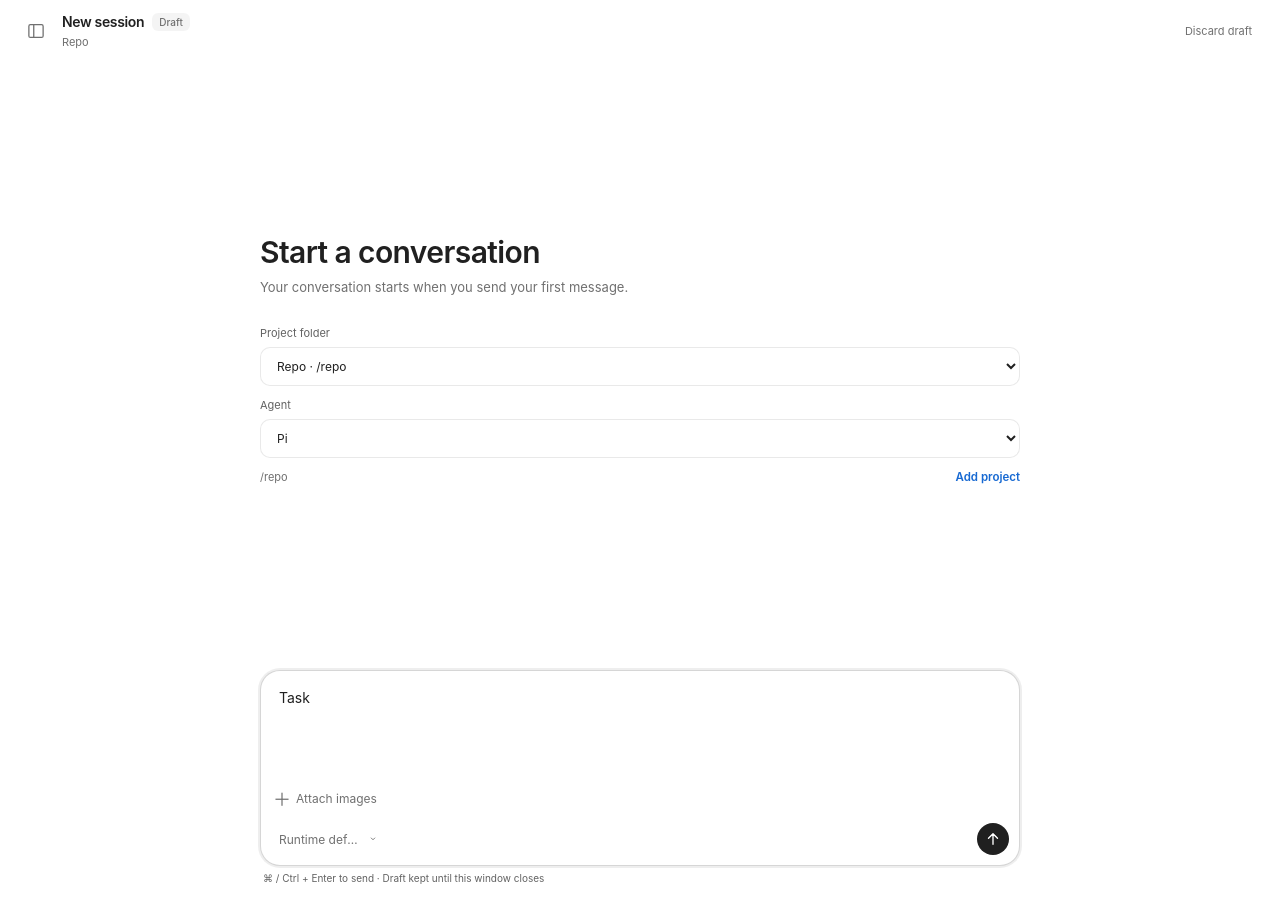
Test case: draft conversation › refreshes a reopened catalog and lets the same model be selected with its new proof
Click the button with aria-label "Model: Runtime default".
click(329, 839)  # box x1=272 y1=826 x2=386 y2=852
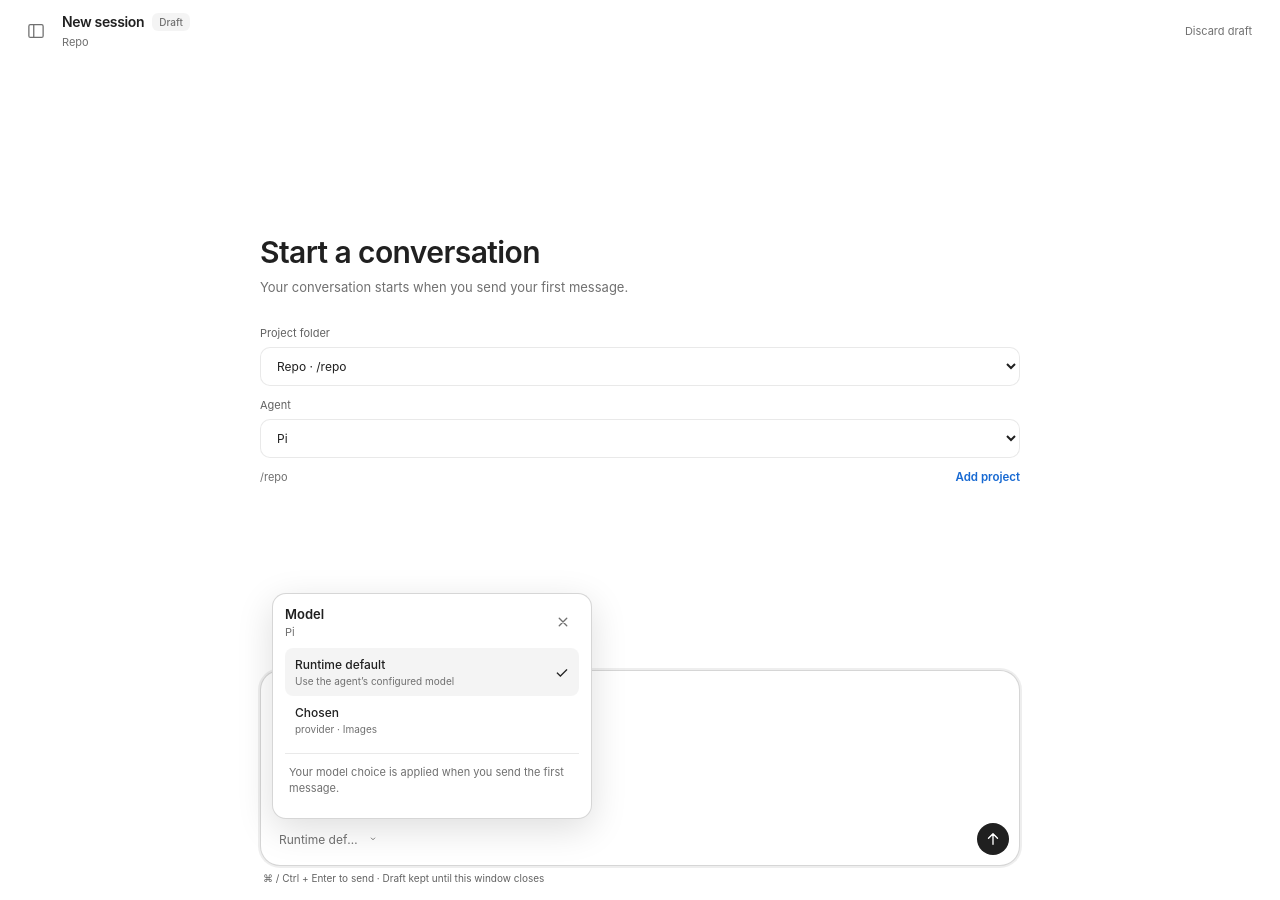
Click the button "Chosen provider · Images".
click(317, 712)  # box x1=285 y1=696 x2=579 y2=744
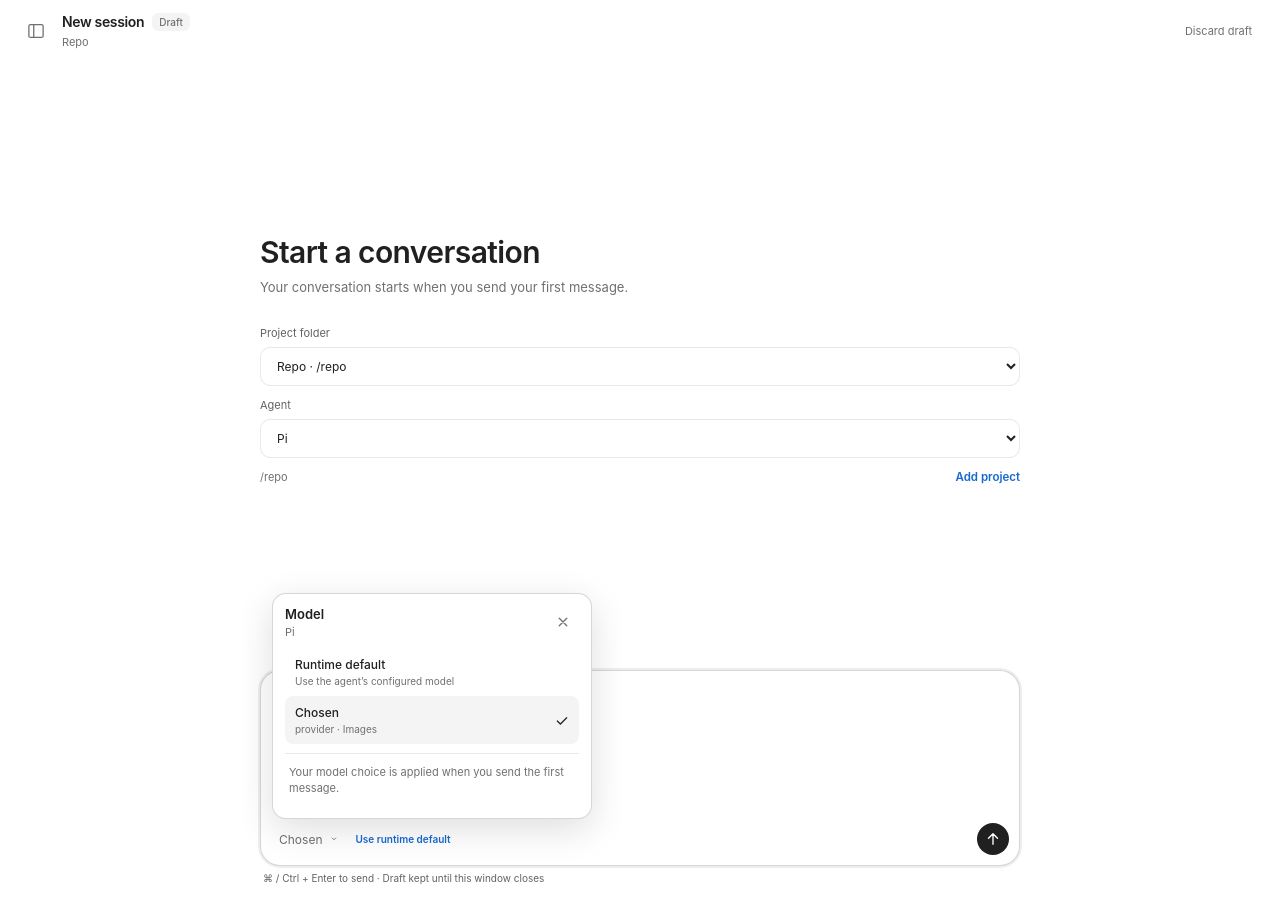
Click the button named "Close model selection".
click(563, 622)  # box x1=547 y1=606 x2=579 y2=638
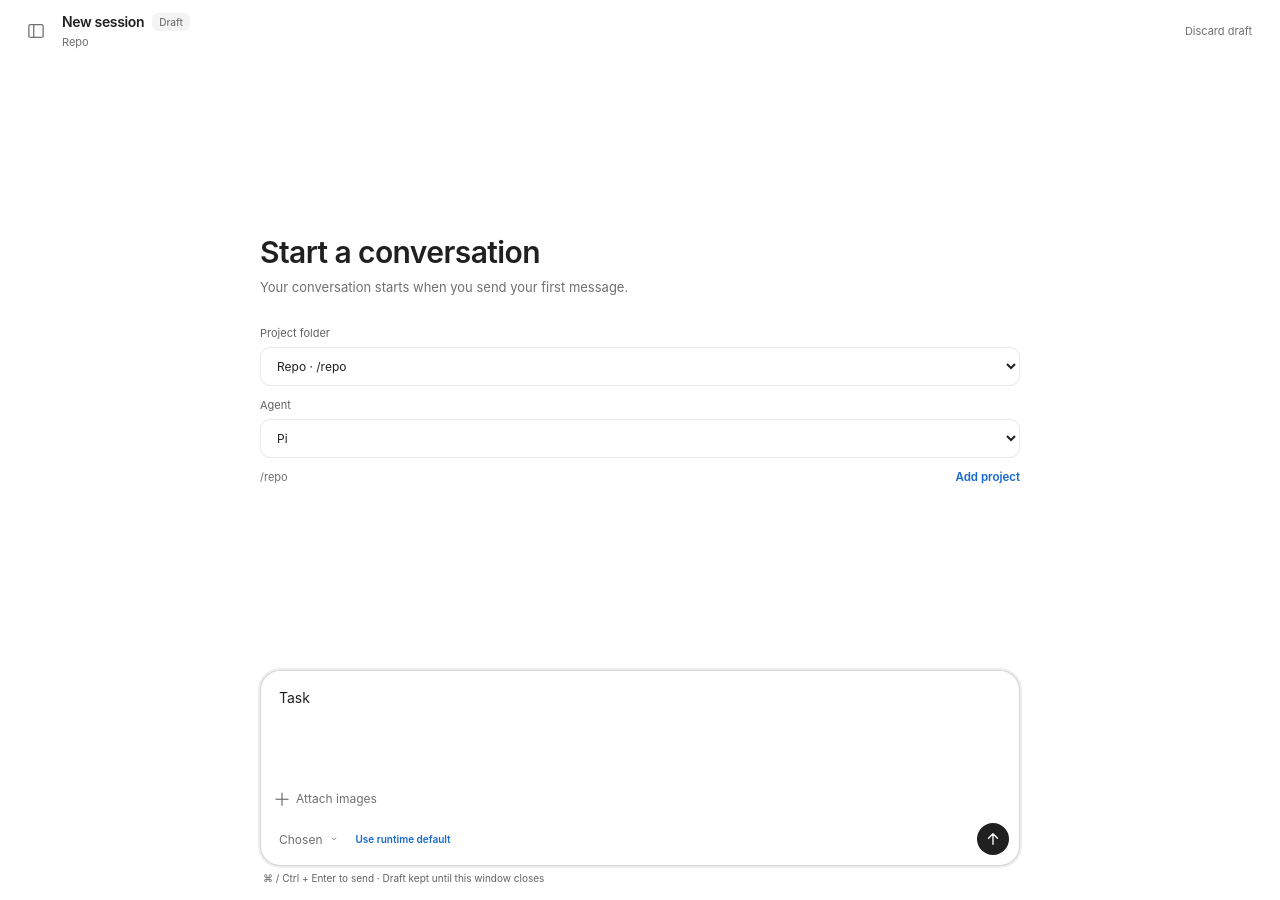
Click the button with aria-label "Model: Chosen".
click(310, 839)  # box x1=272 y1=826 x2=348 y2=852
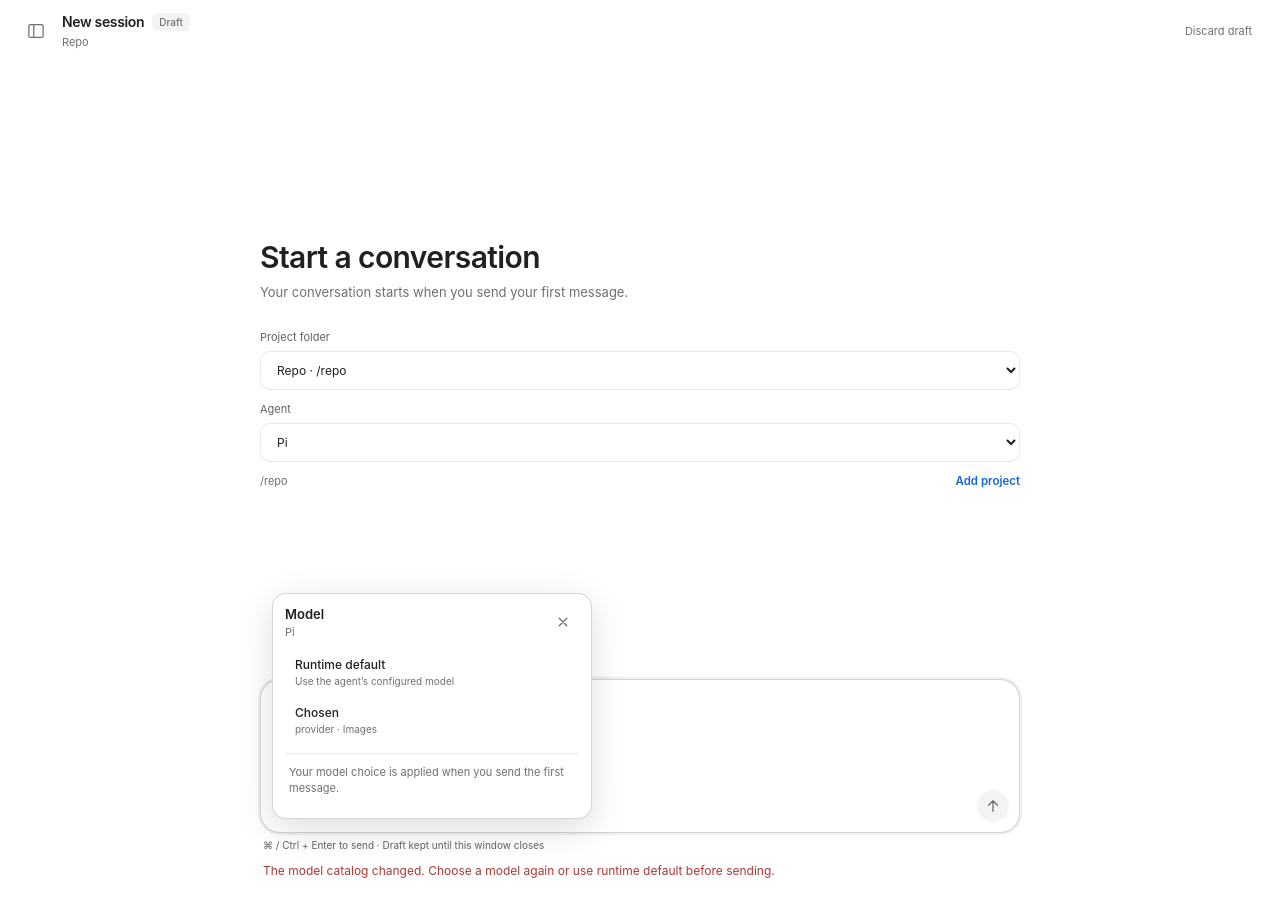
Expected: the text "The model catalog changed" is shown, x1=263 y1=863 x2=775 y2=878
Expected: the button named "Send" is disabled, x1=977 y1=790 x2=1009 y2=822
Click the button "Chosen provider · Images".
click(317, 712)  # box x1=285 y1=696 x2=579 y2=744
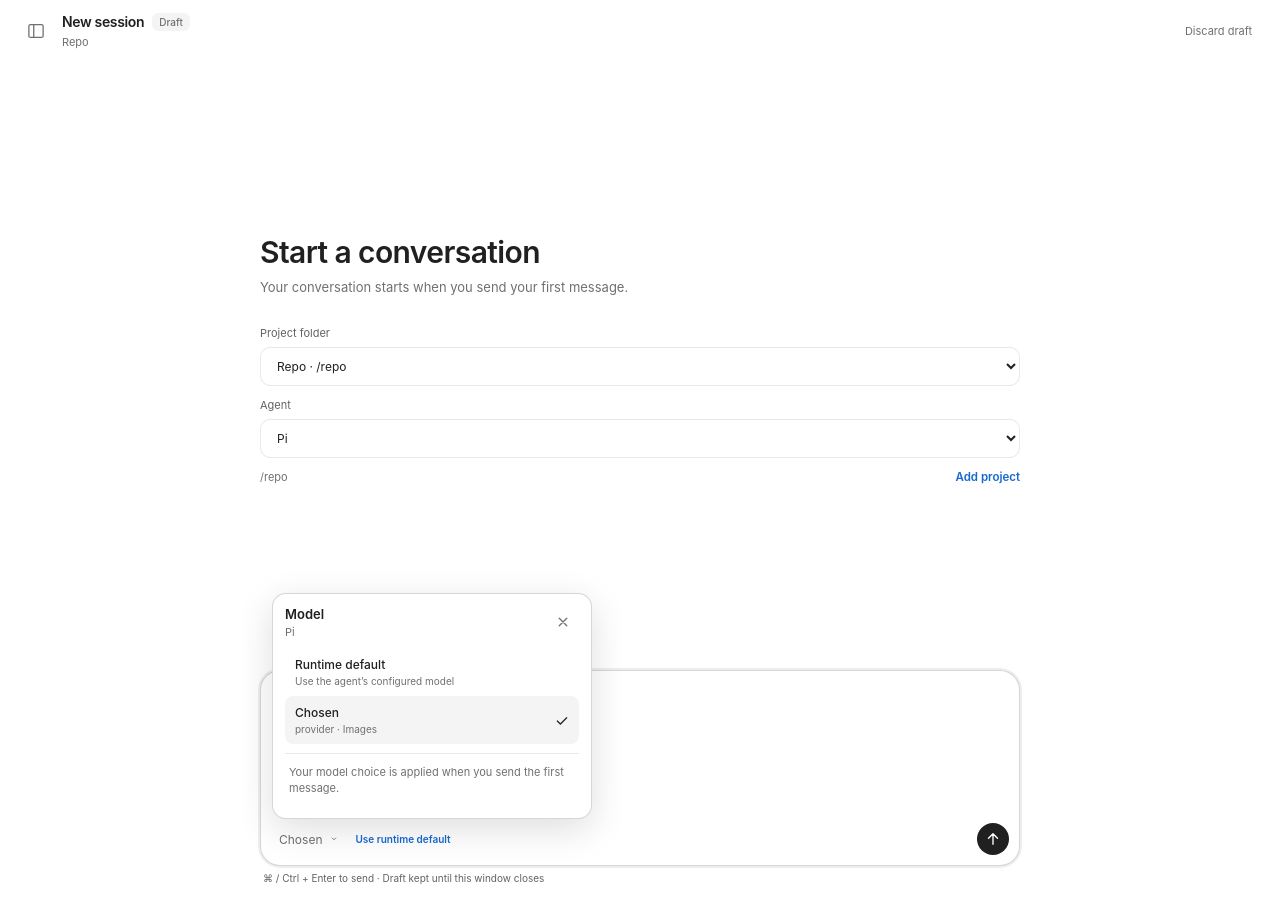
Expected: the button named "Send" is enabled, x1=977 y1=823 x2=1009 y2=855
Expected: the text "The model catalog changed" is gone
